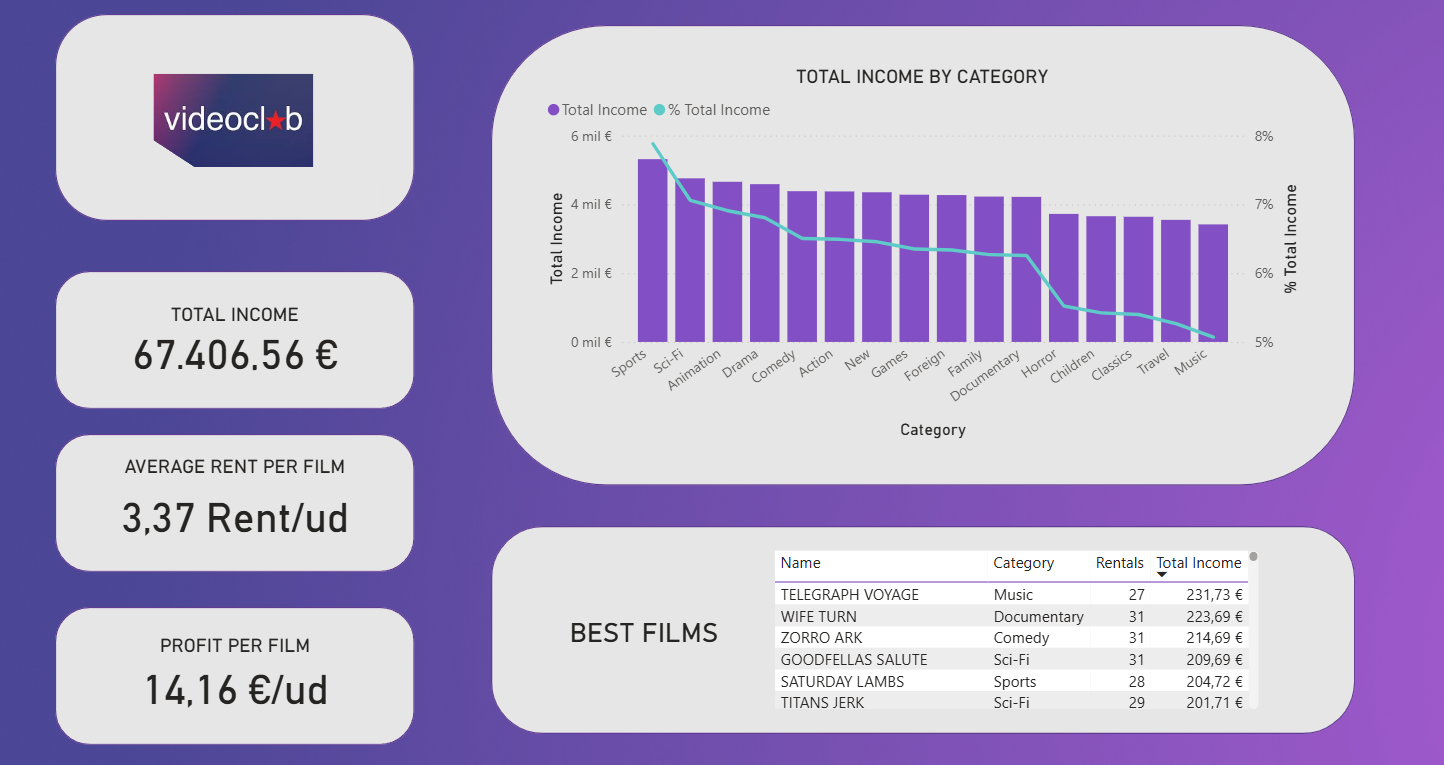

The page's visual inventory and layout, read from the dashboard file:
{"tool":"powerbi","page":{"name":"Overview","canvas":[1280,720],"ordinal":0},"visuals":[{"type":"shape","box":[431.8,22.7,759.1,404.5],"z":0},{"type":"shape","box":[49.6,382,315.9,121.2],"z":1000},{"type":"shape","box":[49.6,534.4,315.9,121.2],"z":2000},{"type":"shape","box":[49.6,238.7,315.9,121.2],"z":3000},{"type":"card","title":"TOTAL INCOME","fields":{"Values":["Sum(PROYECTO COMPLETO.Ingresos_Totales)"]},"box":[89.1,267.2,236.9,64.3],"z":4000},{"type":"card","title":"PROFIT PER FILM","fields":{"Values":["Avg(PROYECTO COMPLETO.RIU)"]},"box":[74.4,558.3,265.4,72.5],"z":5000},{"type":"card","title":"AVERAGE RENT PER FILM","fields":{"Values":["Avg(PROYECTO COMPLETO.ARU)"]},"box":[66.1,400.3,282.8,83.6],"z":6000},{"type":"shape","box":[431.8,462.7,759.1,182.7],"z":7000},{"type":"tableEx","fields":{"Values":["PROYECTO COMPLETO.Nombre","PROYECTO COMPLETO.Categoria","Sum(PROYECTO COMPLETO.Numero_de_Alquileres)","Sum(PROYECTO COMPLETO.Ingresos_Totales)"]},"box":[675.5,480,436.4,149.1],"z":8000},{"type":"shape","box":[49.6,12.9,315.9,181.8],"z":9000},{"type":"image","box":[108.9,27.9,194.6,149.9],"z":10000},{"type":"shape","box":[68.8,22.2,73.8,22.5],"z":11000},{"type":"shape","box":[66,28,73.8,22.5],"z":12000},{"type":"shape","box":[79.2,22.2,68,16.8],"z":13000},{"type":"shape","box":[77,148.8,80.8,39.2],"z":14000},{"type":"shape","box":[65.2,134,80.8,39.2],"z":15000},{"type":"shape","box":[71.5,125,68.5,34],"z":16000},{"type":"shape","box":[109,153.8,53.8,30],"z":17000},{"type":"shape","box":[136,159,31.2,24.8],"z":18000},{"type":"shape","box":[142,163,31.2,24.8],"z":19000},{"type":"shape","box":[146,165.5,31.2,24.8],"z":20000},{"type":"shape","box":[120.5,143.5,31.2,24.8],"z":21000},{"type":"shape","box":[158,170,31.3,14],"z":22000},{"type":"shape","box":[89,147.9,243.1,43.4],"z":23000},{"type":"shape","box":[85.9,22.4,243.1,43.4],"z":24000},{"type":"shape","box":[84.1,119.5,89.1,58.2],"z":25000},{"type":"lineClusteredColumnComboChart","title":"TOTAL INCOME BY CATEGORY","fields":{"Category":["PROYECTO COMPLETO.Categoria"],"Y":["Sum(PROYECTO COMPLETO.Ingresos_Totales)"],"Y2":["Divide(Sum(PROYECTO COMPLETO.Ingresos_Totales), ScopedEval(Sum(PROYECTO COMPLETO.Ingresos_Totales), []))"]},"box":[476.4,58.2,670,333.6],"z":26000},{"type":"textbox","box":[476.4,537.3,180.9,40.9],"z":27000}]}

Visuals, with their boxes on the page's 1280x720 design canvas (x1, y1, x2, y2). These are canvas units, not pixel positions in the 1444x765 screenshot, which may show the page scaled, cropped or inside an application window:
shape: locate(432, 23, 1191, 427)
shape: locate(50, 382, 366, 503)
shape: locate(50, 534, 366, 656)
shape: locate(50, 239, 366, 360)
"TOTAL INCOME" card: locate(89, 267, 326, 332)
"PROFIT PER FILM" card: locate(74, 558, 340, 631)
"AVERAGE RENT PER FILM" card: locate(66, 400, 349, 484)
shape: locate(432, 463, 1191, 645)
tableEx - PROYECTO COMPLETO.Nombre x PROYECTO COMPLETO.Categoria: locate(676, 480, 1112, 629)
shape: locate(50, 13, 366, 195)
image: locate(109, 28, 304, 178)
shape: locate(69, 22, 143, 45)
shape: locate(66, 28, 140, 50)
shape: locate(79, 22, 147, 39)
shape: locate(77, 149, 158, 188)
shape: locate(65, 134, 146, 173)
shape: locate(72, 125, 140, 159)
shape: locate(109, 154, 163, 184)
shape: locate(136, 159, 167, 184)
shape: locate(142, 163, 173, 188)
shape: locate(146, 166, 177, 190)
shape: locate(120, 144, 152, 168)
shape: locate(158, 170, 189, 184)
shape: locate(89, 148, 332, 191)
shape: locate(86, 22, 329, 66)
shape: locate(84, 120, 173, 178)
"TOTAL INCOME BY CATEGORY" lineClusteredColumnComboChart: locate(476, 58, 1146, 392)
textbox: locate(476, 537, 657, 578)
